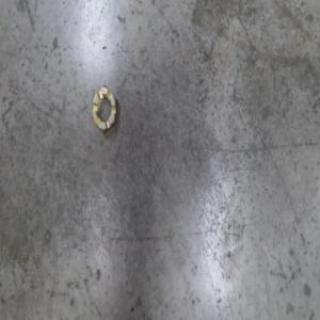Nuttrack_idkeyframe: (89, 81, 117, 132)
